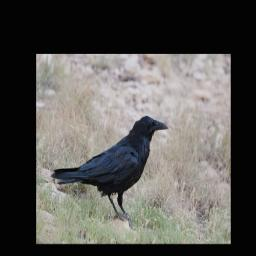Crow: (50, 115, 169, 226)
